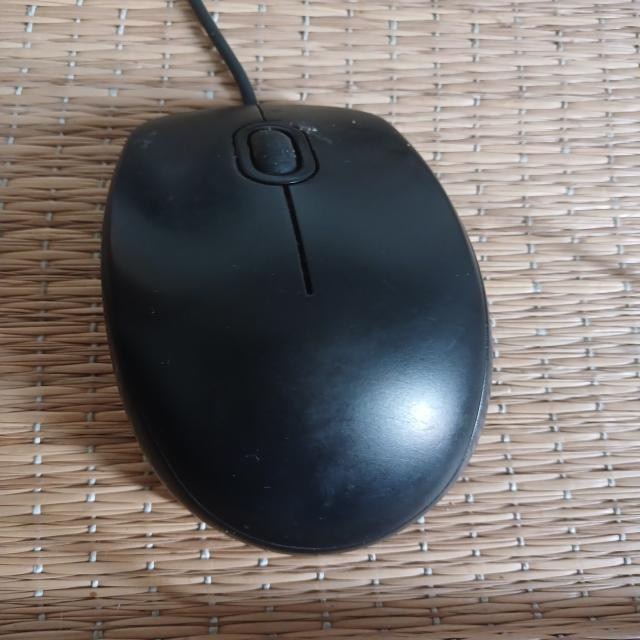mouse: (78, 94, 514, 562)
